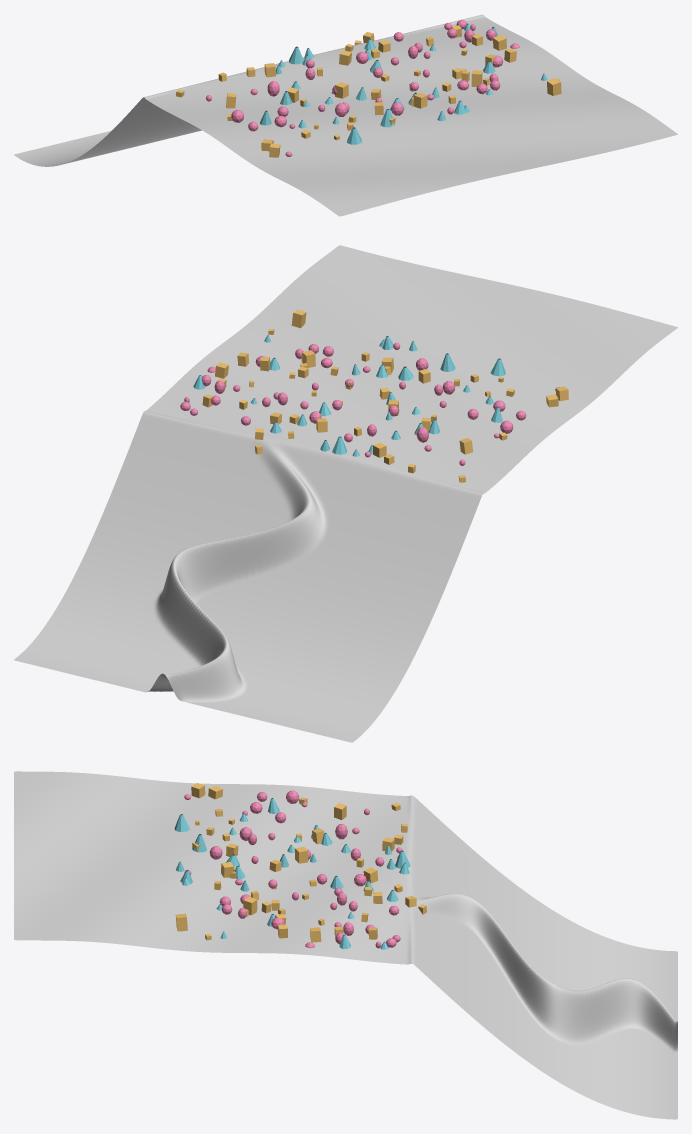
The model's file is underwater_reef_to_oceanfloor.fbx.
The picture shows the model from 3 angles, top to bottom: view 1: azimuth 30°, elevation 25°; view 2: azimuth 150°, elevation 25°; view 3: azimuth 270°, elevation 25°; orthographic projection.
Parts seen in each view (by area): view 1: Underwater_Terrain; view 2: Underwater_Terrain; view 3: Underwater_Terrain.
Boxes of the visible parts, <box> form: Underwater_Terrain: <box>14,14,677,216</box>; Underwater_Terrain: <box>14,245,677,742</box>; Underwater_Terrain: <box>14,771,677,1119</box>.
Bounding box in the file's own units: 3000 × 1546 × 5000.
